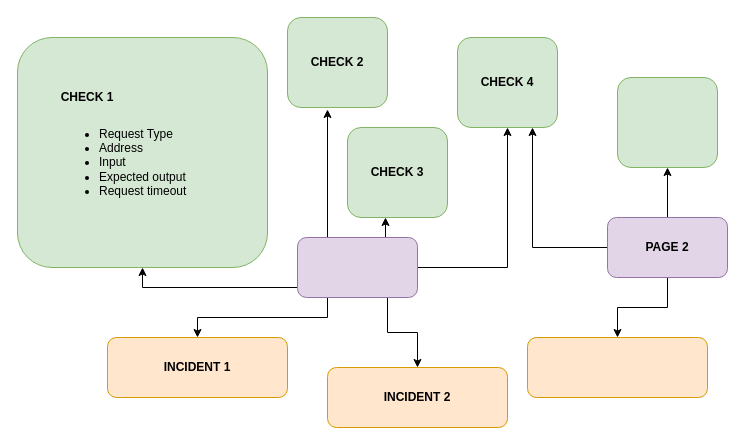
Image size: 745x445. Some labels were removed from this diagram. The shapes that lost their labels are listed below. From the top down, each one's box as (x1, y1, x2, y2) in pixels, then its label:
(616, 76, 718, 168): CHECK 5
(296, 236, 418, 298): PAGE 1
(526, 336, 708, 398): INCIDENT 3
